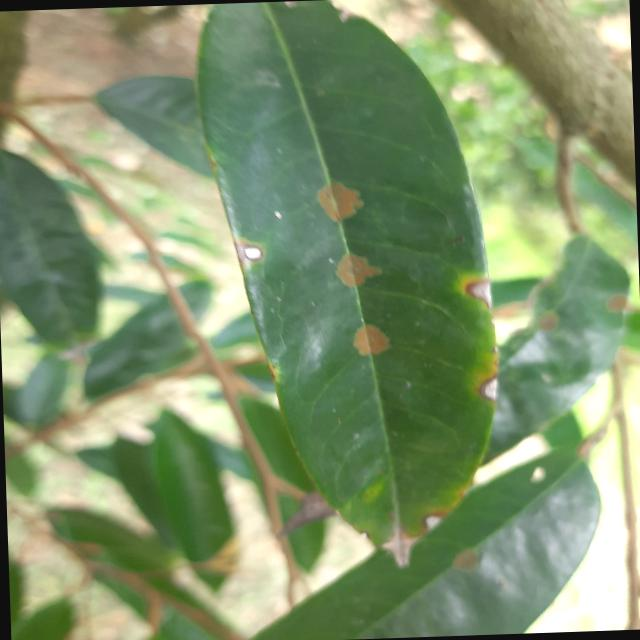Algal Leaf Spot: (190, 0, 512, 588)
